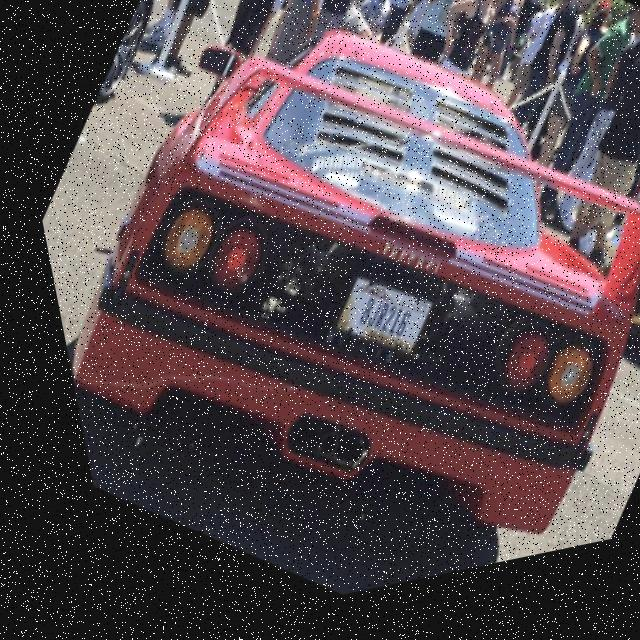license_plate: (312, 276, 422, 382)
